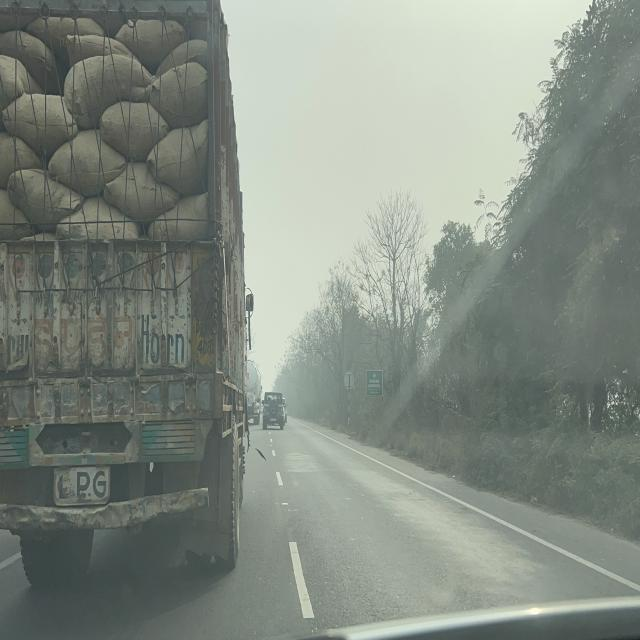GENERAL: (365, 368, 384, 396)
